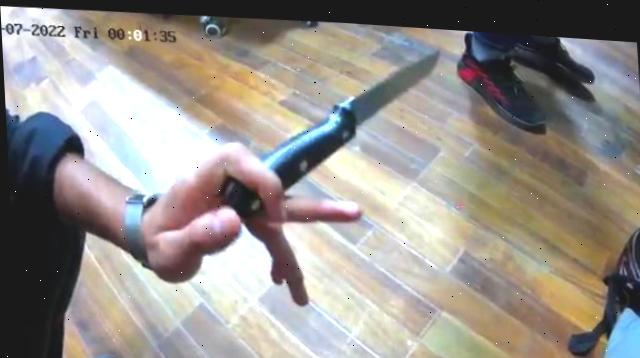pocket-knife: (207, 27, 451, 221)
